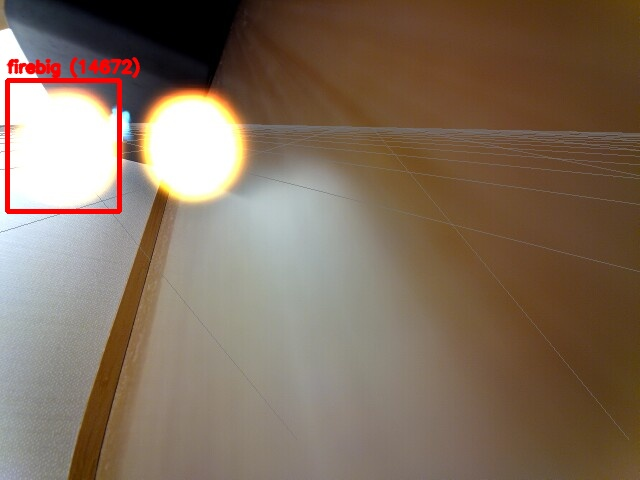firebig: (7, 80, 119, 211)
